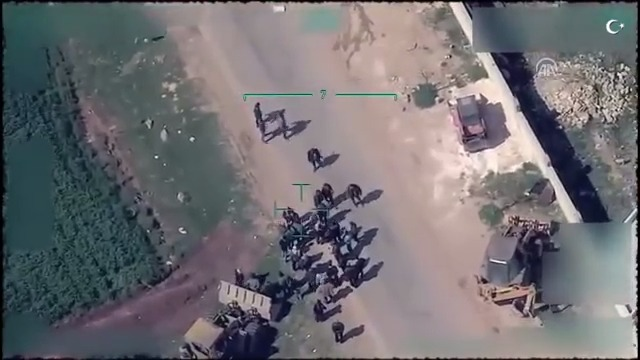arac: (449, 88, 496, 154)
insan: (303, 141, 328, 170), (276, 108, 294, 144), (344, 180, 365, 210), (329, 316, 348, 345), (313, 300, 329, 323)
